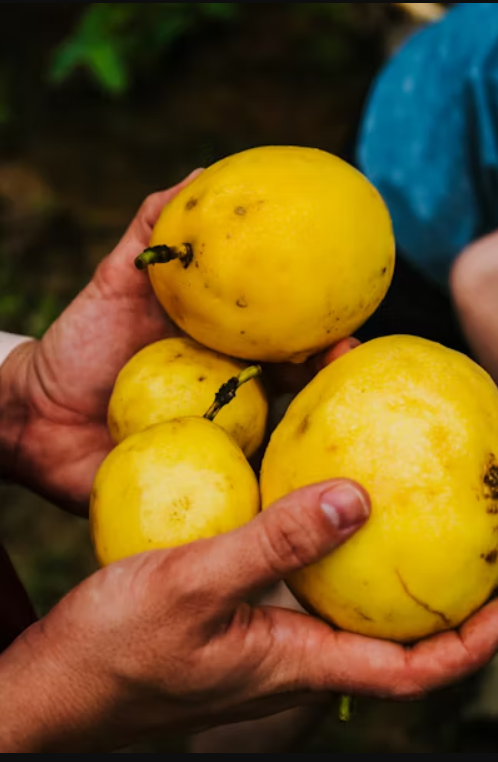maracuya: (249, 329, 498, 649), (129, 139, 409, 373)
